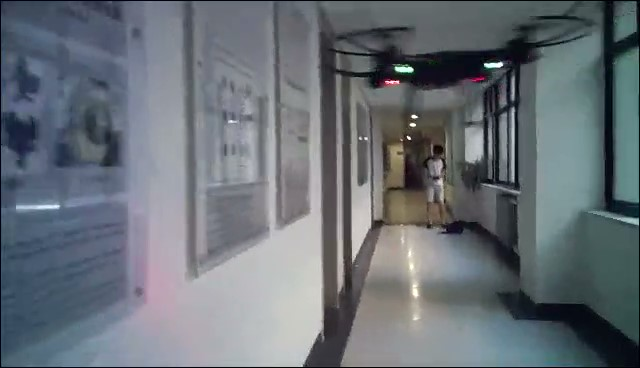drone: (316, 16, 596, 129)
person: (423, 144, 449, 228)
